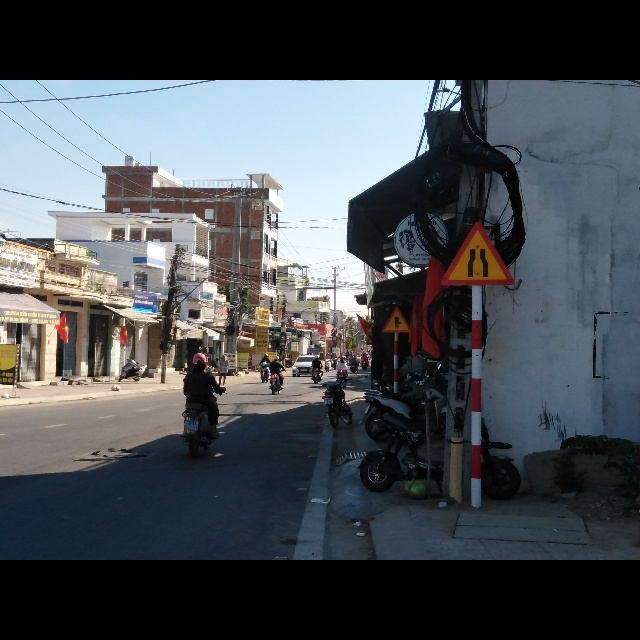Giao nhau với đường không ưu tiên: (382, 308, 411, 334)
Đường bị hẹp cả hai bên: (440, 220, 515, 286)
